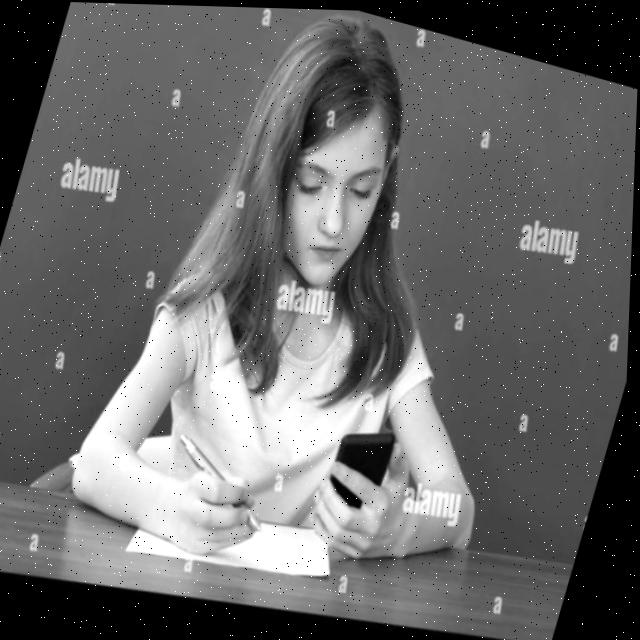phone: (159, 419, 289, 545), (318, 414, 410, 518)
